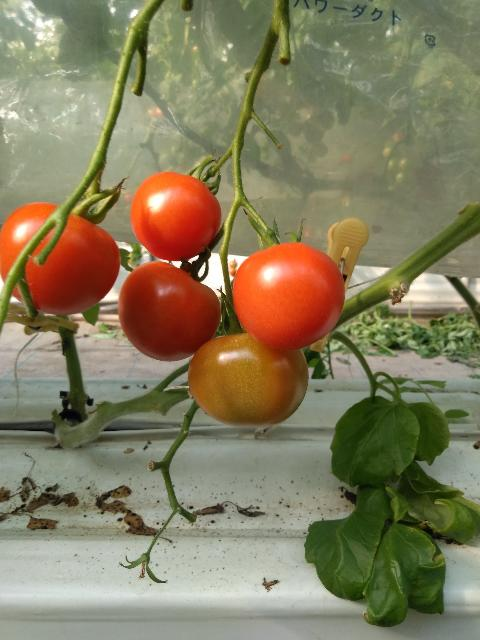l_fully_ripened: (0, 202, 120, 316), (233, 242, 345, 350), (117, 261, 222, 362), (131, 172, 221, 262)
l_half_ripened: (188, 332, 309, 428)
